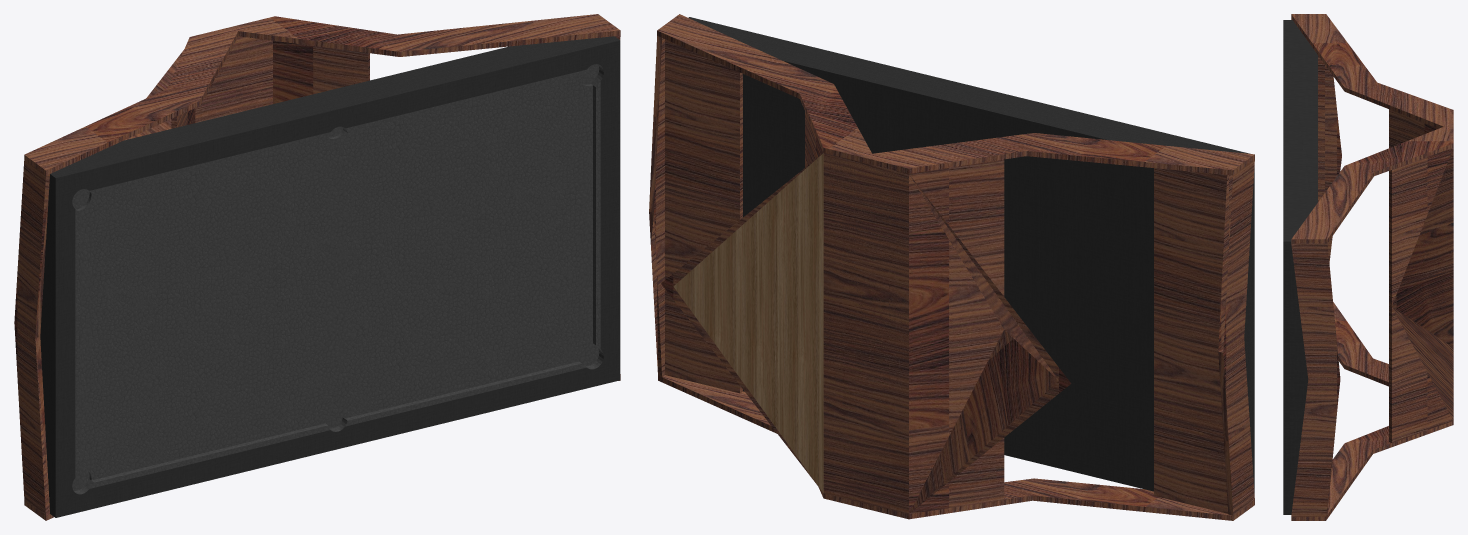
File: zurita.glb
3 views of the same model, side by side, from view 1: azimuth 30°, elevation 25°; view 2: azimuth 150°, elevation 25°; view 3: azimuth 270°, elevation 25° (orthographic). The views are drawn at different scales.
Visible parts, largest first — view 1: ID311, ID269, ID236, ID430, ID504, ID163, ID226; view 2: ID269, ID163_1, ID195, ID519, ID210, ID441, ID236, ID473, ID430, ID405, ID494, ID251 (+2 smaller); view 3: ID269, ID251, ID494, ID236, ID452, ID405, ID462_1, ID430, ID226, ID185, ID210.
Boxes of the visible parts, <box> form: ID311: <box>72,64,603,494</box>; ID269: <box>40,36,620,517</box>; ID236: <box>24,14,620,170</box>; ID430: <box>14,160,49,515</box>; ID504: <box>273,41,368,103</box>; ID163: <box>195,36,272,122</box>; ID226: <box>24,30,620,175</box>; ID269: <box>688,17,1254,492</box>; ID163_1: <box>823,153,908,513</box>; ID195: <box>909,159,1004,513</box>; ID519: <box>673,153,823,492</box>; ID210: <box>1154,168,1232,513</box>; ID441: <box>665,39,742,393</box>; ID236: <box>657,14,1254,170</box>; ID473: <box>909,175,1071,513</box>; ID430: <box>1218,160,1254,515</box>; ID405: <box>658,375,1254,520</box>; ID494: <box>805,111,908,470</box>; ID251: <box>649,36,664,376</box>; ID269: <box>1283,20,1317,514</box>; ID251: <box>1291,243,1340,516</box>; ID494: <box>1389,148,1453,442</box>; ID236: <box>1291,14,1453,239</box>; ID452: <box>1392,148,1453,347</box>; ID405: <box>1291,302,1453,520</box>; ID462_1: <box>1392,307,1453,420</box>; ID430: <box>1291,19,1341,263</box>; ID226: <box>1291,14,1453,243</box>; ID185: <box>1389,109,1437,147</box>; ID210: <box>1318,55,1324,201</box>.
Bounding box in the file's own units: 90.55 × 52.76 × 28.88.
5 materials, 5 textured.
